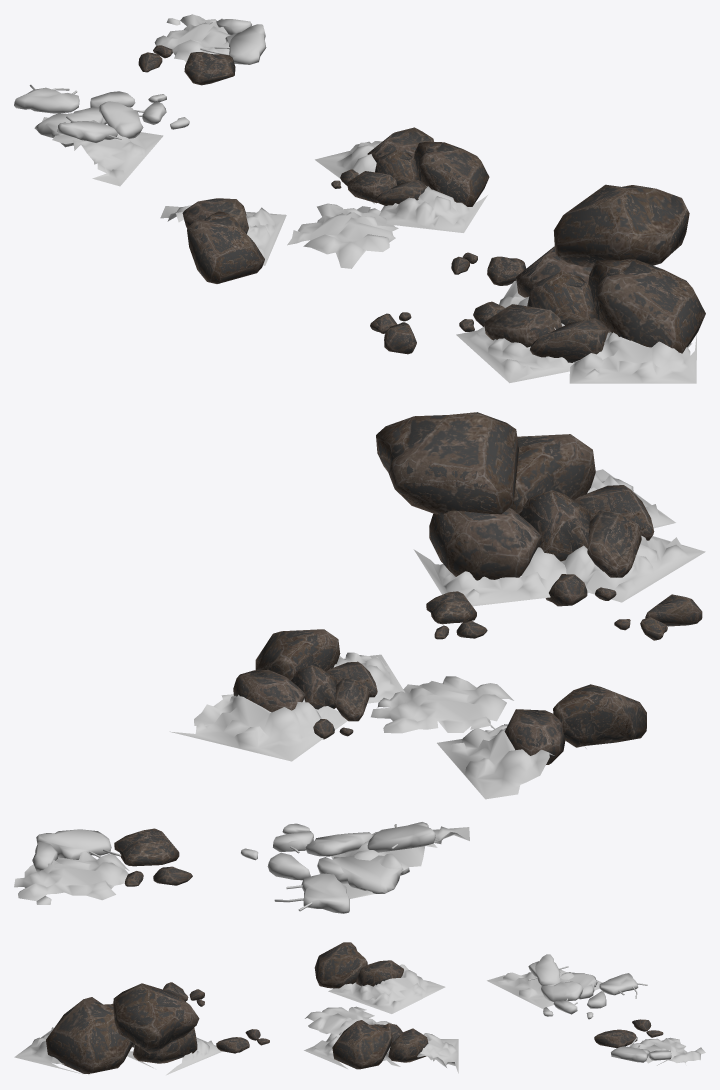
Rendered from straight_rough_terrain.dae.
3 renders of one model, top to bottom at view 1: azimuth 30°, elevation 25°; view 2: azimuth 150°, elevation 25°; view 3: azimuth 270°, elevation 25°, orthographic. The views are drawn at different scales.
Parts seen in each view (by area): view 1: Rocks, RockPile, Concrete; view 2: Rocks, RockPile, Concrete; view 3: Rocks, RockPile, Concrete.
Part boxes in pixels (box(x1,y1,x2,y2)): Rocks: box(138, 45, 705, 362); RockPile: box(42, 14, 696, 383); Concrete: box(14, 19, 266, 147); Rocks: box(114, 412, 702, 886); RockPile: box(14, 469, 705, 904); Concrete: box(32, 822, 435, 913); Rocks: box(46, 942, 663, 1074); RockPile: box(14, 964, 705, 1075); Concrete: box(528, 954, 671, 1062).
Bounding box in the file's own units: 7.57 × 18.64 × 2.62.
